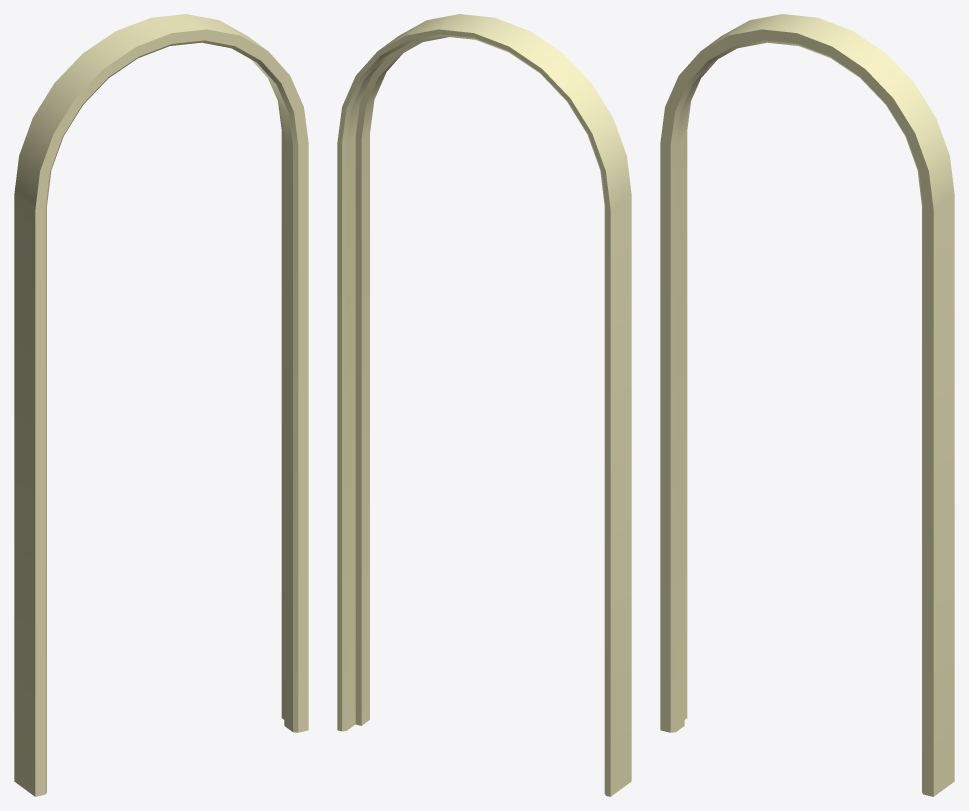
The model's file is frame.dae.
The picture shows the model from 3 angles, left to right: view 1: azimuth 30°, elevation 25°; view 2: azimuth 150°, elevation 25°; view 3: azimuth 330°, elevation 25°; orthographic projection.
Parts seen in each view (by area): view 1: group_12; view 2: group_12; view 3: group_12.
Boxes of the visible parts, bbox=[...] form: group_12: bbox=[14, 14, 308, 796]; group_12: bbox=[337, 14, 631, 796]; group_12: bbox=[660, 14, 954, 796].
Size of the model in its own units: 0.9 by 0.12 by 2.3.
